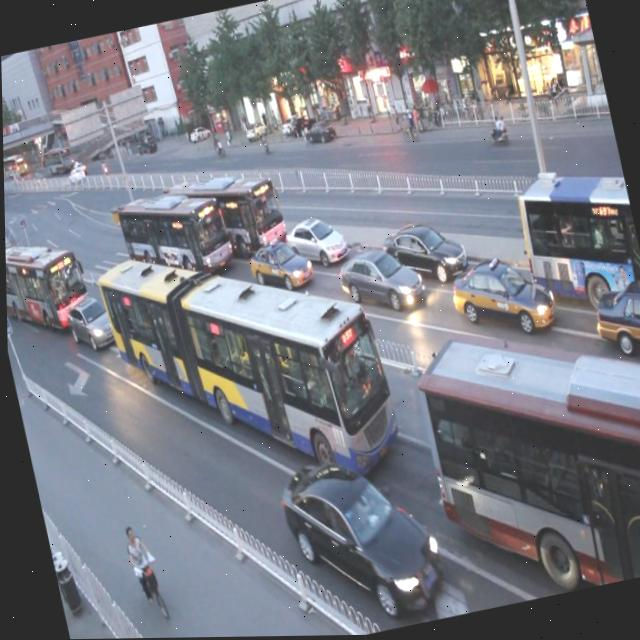car: (273, 439, 446, 632), (443, 243, 559, 351), (329, 234, 423, 323), (378, 209, 469, 291), (241, 227, 313, 298), (277, 204, 347, 275), (585, 275, 640, 358), (61, 288, 123, 354)
van: (89, 205, 406, 520), (408, 296, 640, 614), (508, 158, 640, 315), (110, 173, 235, 296), (163, 154, 289, 270), (4, 225, 89, 332)
